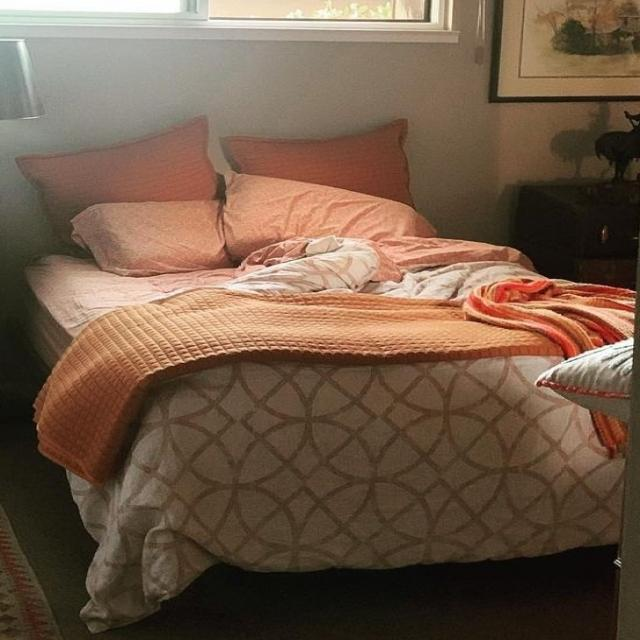bed: (3, 120, 640, 562)
